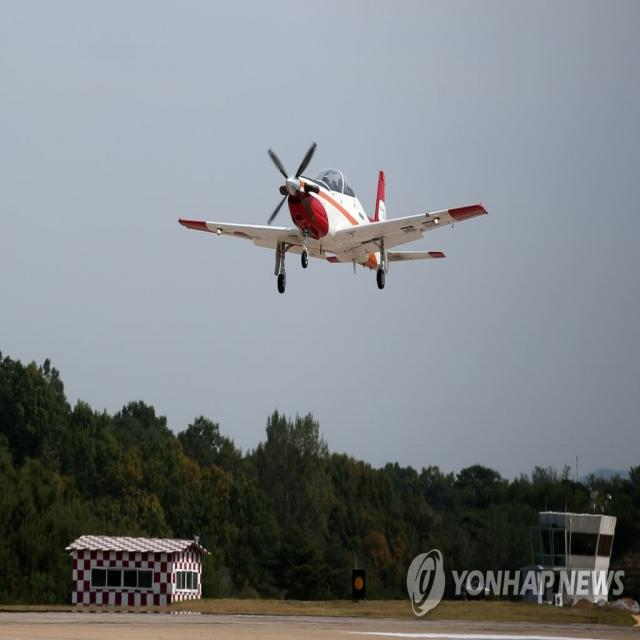KT-1: (185, 139, 488, 291)
